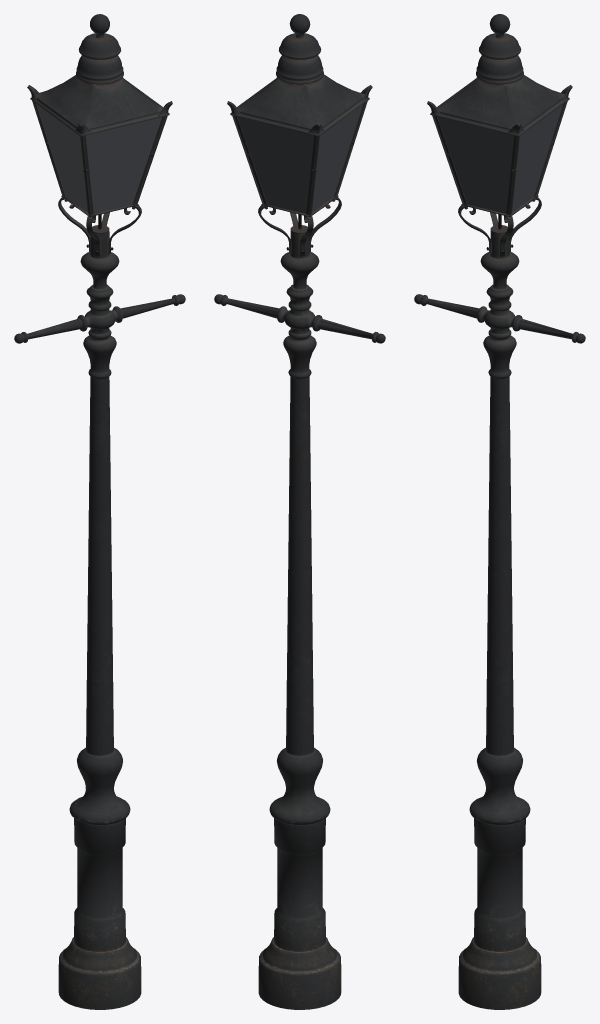
The model's file is street_lamp.gltf.
The picture shows the model from 3 angles, left to right: view 1: azimuth 30°, elevation 25°; view 2: azimuth 150°, elevation 25°; view 3: azimuth 330°, elevation 25°; orthographic projection.
Parts seen in each view (by area): view 1: street_lamp_01; view 2: street_lamp_01; view 3: street_lamp_01.
Part boxes in pixels (box(x1,y1,x2,y2)): street_lamp_01: box(14, 14, 185, 1009); street_lamp_01: box(214, 14, 385, 1009); street_lamp_01: box(414, 14, 585, 1009).
Size of the model in its own units: 0.7043 by 3.87 by 0.3858.
